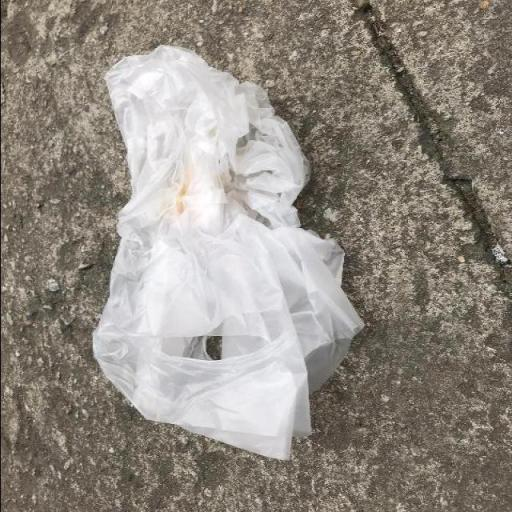plastic-bag: (90, 42, 368, 463)
